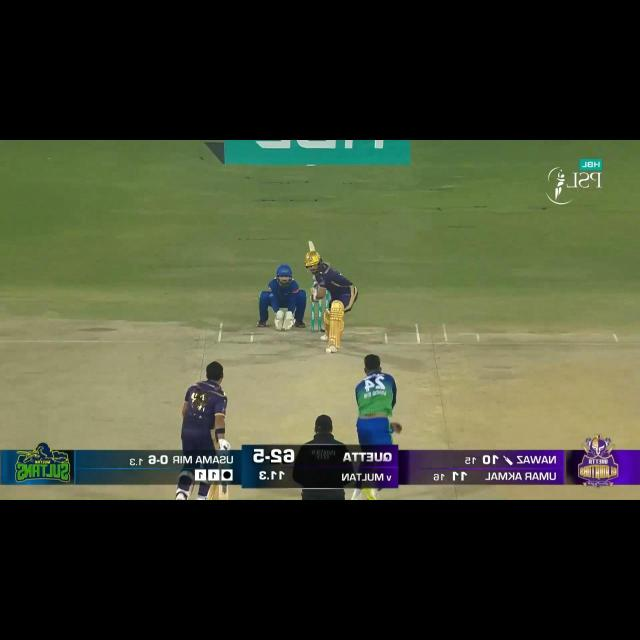bat: (218, 483, 229, 500), (313, 274, 317, 283)
toe: (219, 484, 228, 501), (308, 241, 316, 251)
